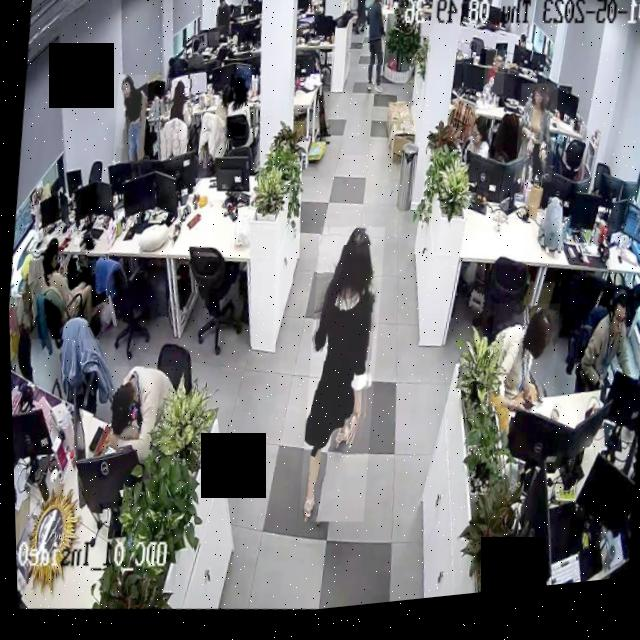person: (288, 228, 390, 534), (480, 309, 560, 428), (25, 233, 109, 346), (572, 296, 640, 411), (103, 364, 174, 459), (510, 92, 560, 197), (109, 74, 150, 168), (358, 0, 391, 98), (158, 78, 197, 145), (223, 77, 251, 147), (459, 122, 493, 173), (480, 58, 506, 106), (213, 0, 233, 46)
